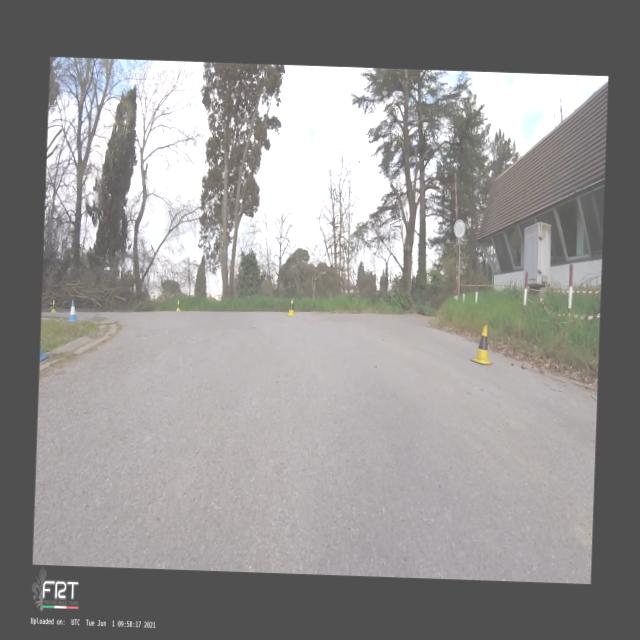blue_cone: (68, 300, 76, 322)
yellow_cone: (470, 322, 494, 364), (285, 298, 297, 316), (50, 300, 56, 312), (176, 300, 180, 312)
